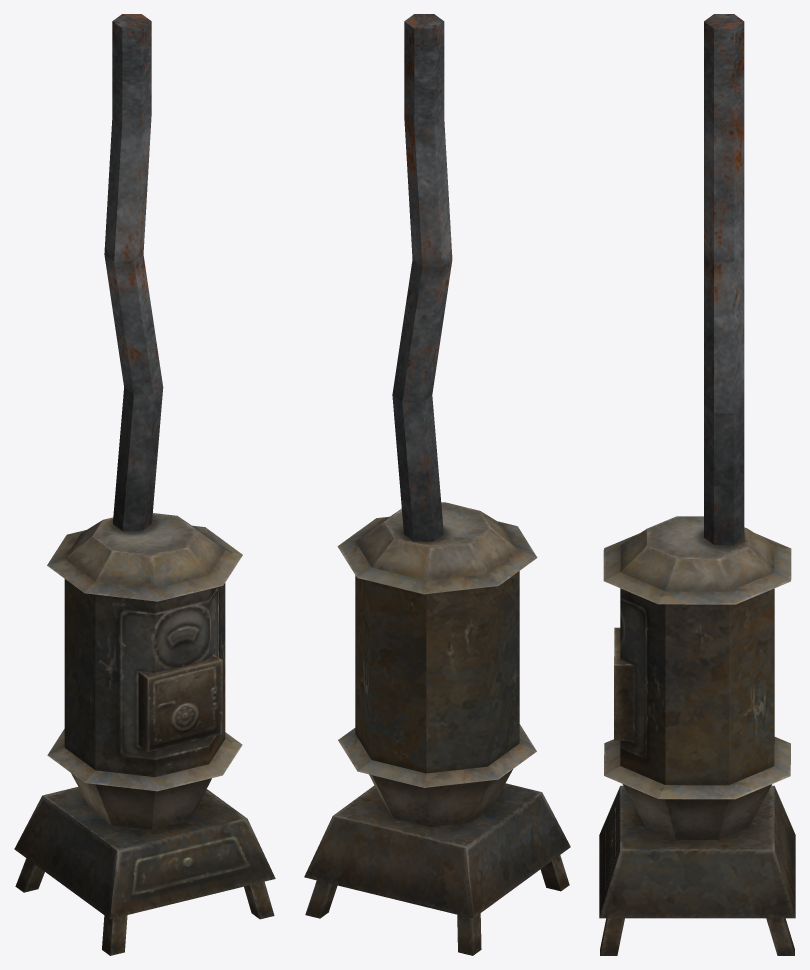
The model's file is Oven.fbx.
3 views of the same model, side by side, from view 1: azimuth 30°, elevation 25°; view 2: azimuth 150°, elevation 25°; view 3: azimuth 270°, elevation 25° (orthographic). The views are drawn at different scales.
Parts seen in each view (by area): view 1: Oven; view 2: Oven; view 3: Oven.
Part boxes in pixels (box(x1,y1,x2,y2)): Oven: box(14, 14, 275, 955); Oven: box(304, 14, 570, 955); Oven: box(599, 14, 795, 955).
Bounding box in the file's own units: 59.69 × 300 × 59.69.
